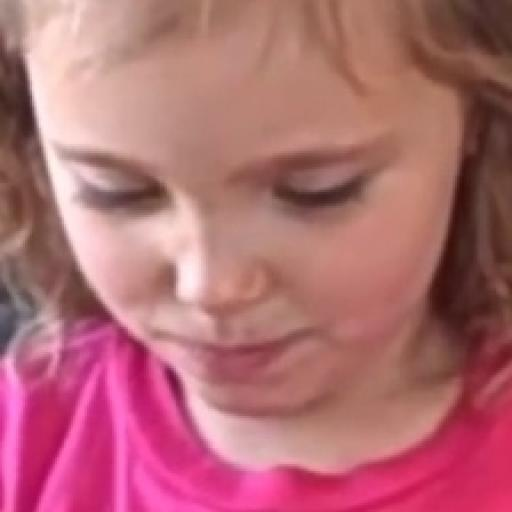Autism: (27, 10, 512, 460)
